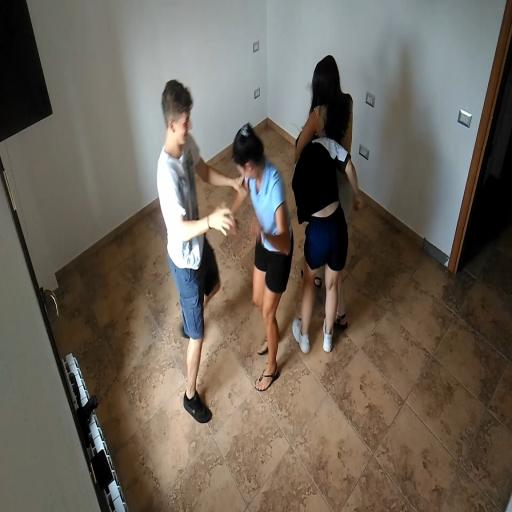violencia: (142, 75, 296, 428), (285, 44, 369, 359)
